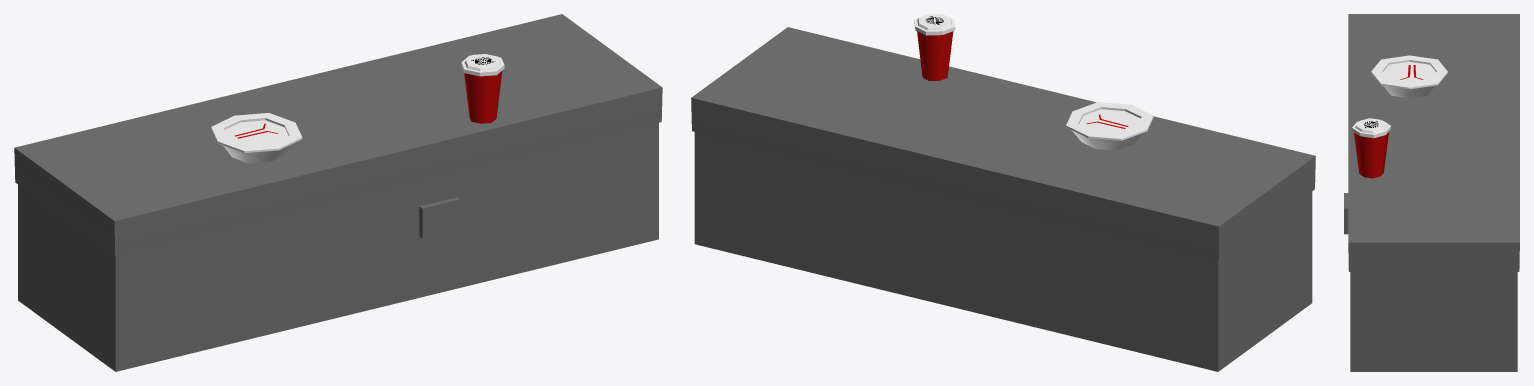
File: Big_Table.glb
3 renders of one model, left to right at view 1: azimuth 30°, elevation 25°; view 2: azimuth 150°, elevation 25°; view 3: azimuth 270°, elevation 25°, orthographic. The views are drawn at different scales.
Parts seen in each view (by area): view 1: roofroom_big_table_01_geo, roofroom_big_table_02_geo, roofroom_big_table_03_geo; view 2: roofroom_big_table_01_geo, roofroom_big_table_02_geo, roofroom_big_table_03_geo; view 3: roofroom_big_table_01_geo, roofroom_big_table_02_geo, roofroom_big_table_03_geo.
Part boxes in pixels (bbox=[...]): roofroom_big_table_01_geo: bbox=[14, 14, 662, 371]; roofroom_big_table_02_geo: bbox=[211, 113, 302, 163]; roofroom_big_table_03_geo: bbox=[461, 54, 504, 123]; roofroom_big_table_01_geo: bbox=[691, 27, 1315, 371]; roofroom_big_table_02_geo: bbox=[1066, 102, 1153, 150]; roofroom_big_table_03_geo: bbox=[914, 14, 955, 80]; roofroom_big_table_01_geo: bbox=[1344, 14, 1519, 371]; roofroom_big_table_02_geo: bbox=[1371, 55, 1447, 98]; roofroom_big_table_03_geo: bbox=[1352, 118, 1390, 178].
Size of what is drawn, in the model's own units: 2.04 by 0.7442 by 0.6632.
1 material, 1 textured.
